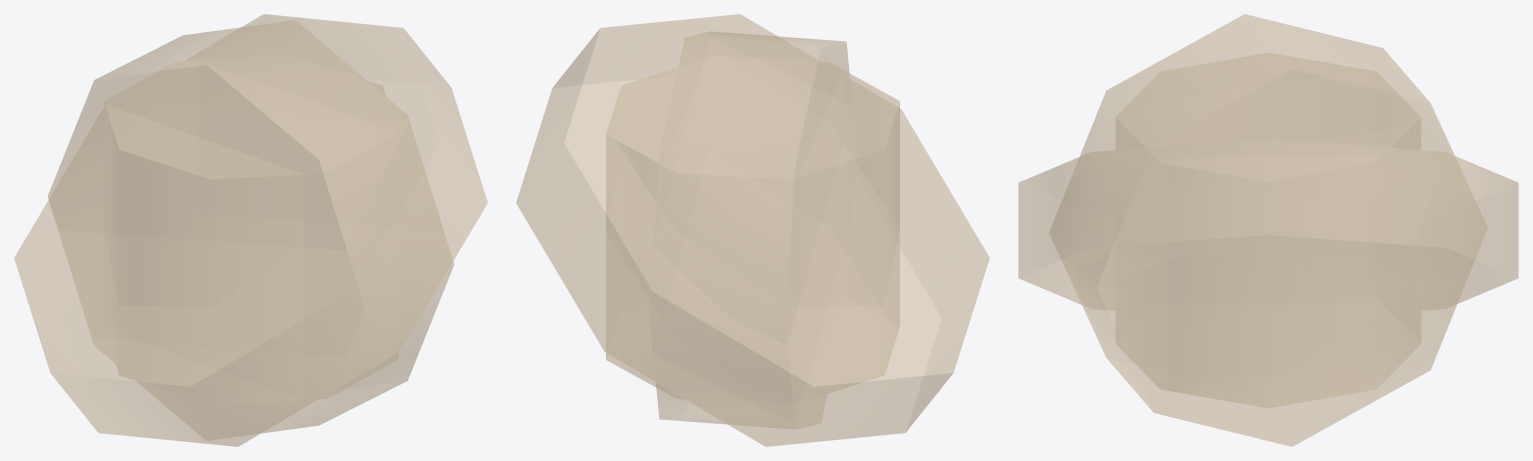
File: dust.glb
3 views of the same model, side by side, from view 1: azimuth 30°, elevation 25°; view 2: azimuth 150°, elevation 25°; view 3: azimuth 270°, elevation 25° (orthographic).
Parts seen in each view (by area): view 1: Vfx_dust; view 2: Vfx_dust; view 3: Vfx_dust.
Boxes of the visible parts, x1,y1,x2,y2 form: Vfx_dust: [14, 14, 487, 446]; Vfx_dust: [516, 14, 989, 446]; Vfx_dust: [1018, 14, 1518, 446].
Bounding box in the file's own units: 0.8376 × 0.75 × 0.9.
